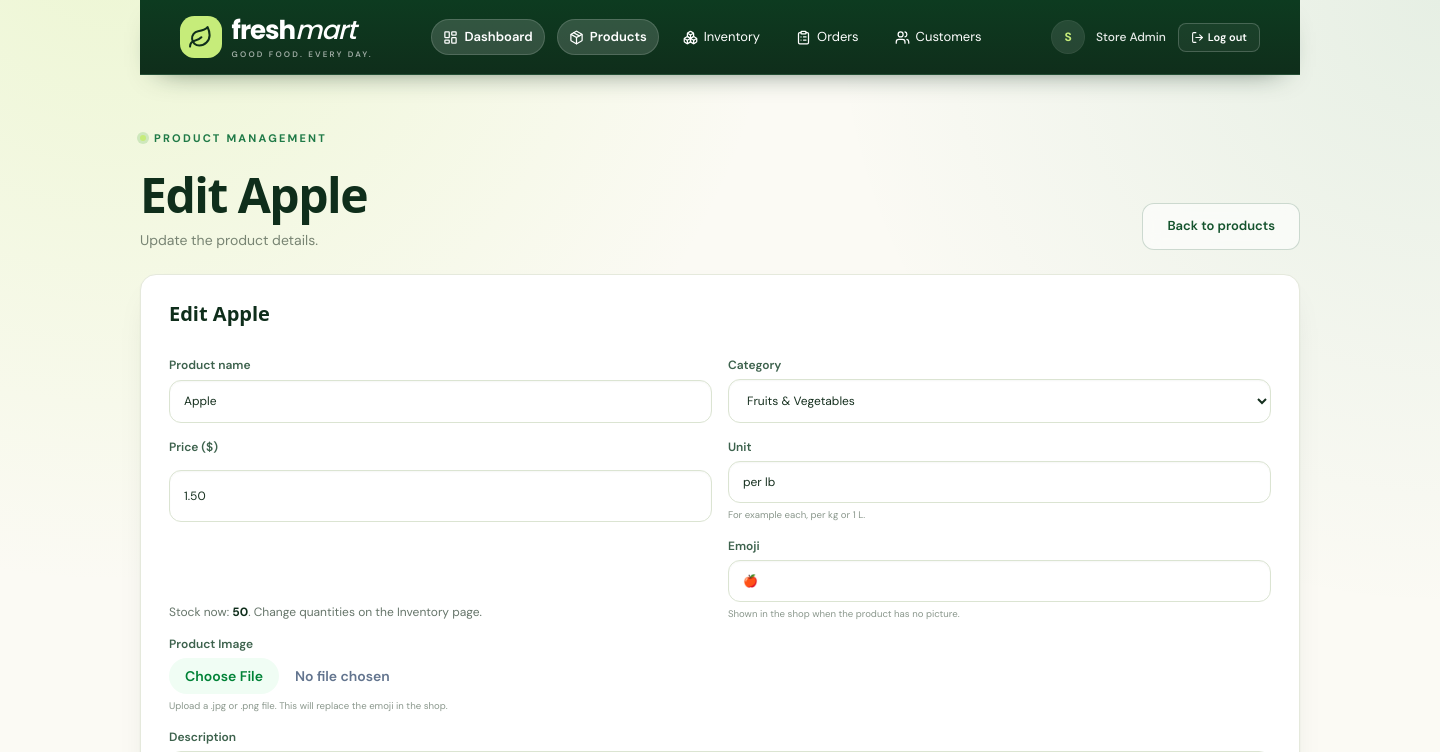
Test case: Sprint 4: admin screens › returns to the product list after saving an edit and clears the saving state
Replace the text in the field labelled "Product name" with "Green Apple": (440, 401) [169,380,712,423]
(page scrolled)
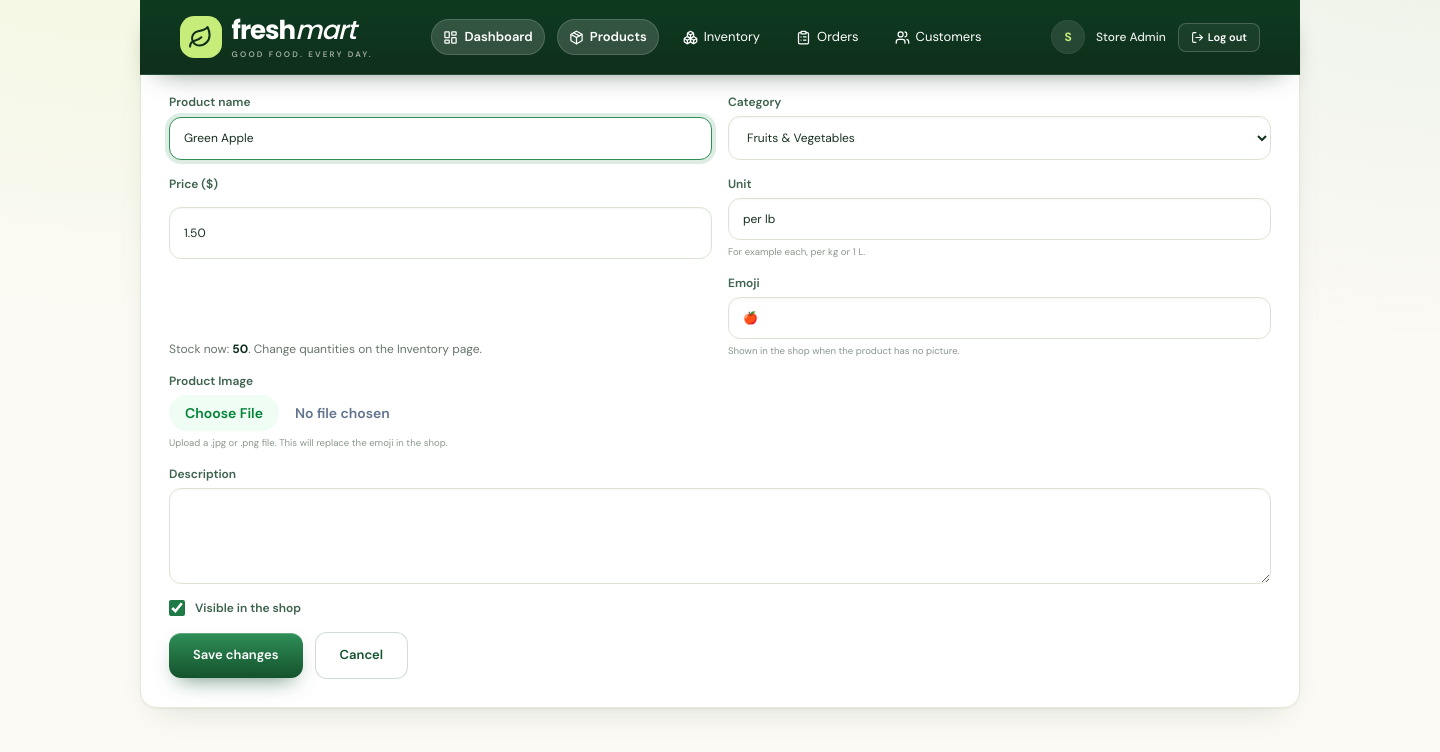
Click the button "Save changes": (236, 656) [169,633,302,678]
(page scrolled)
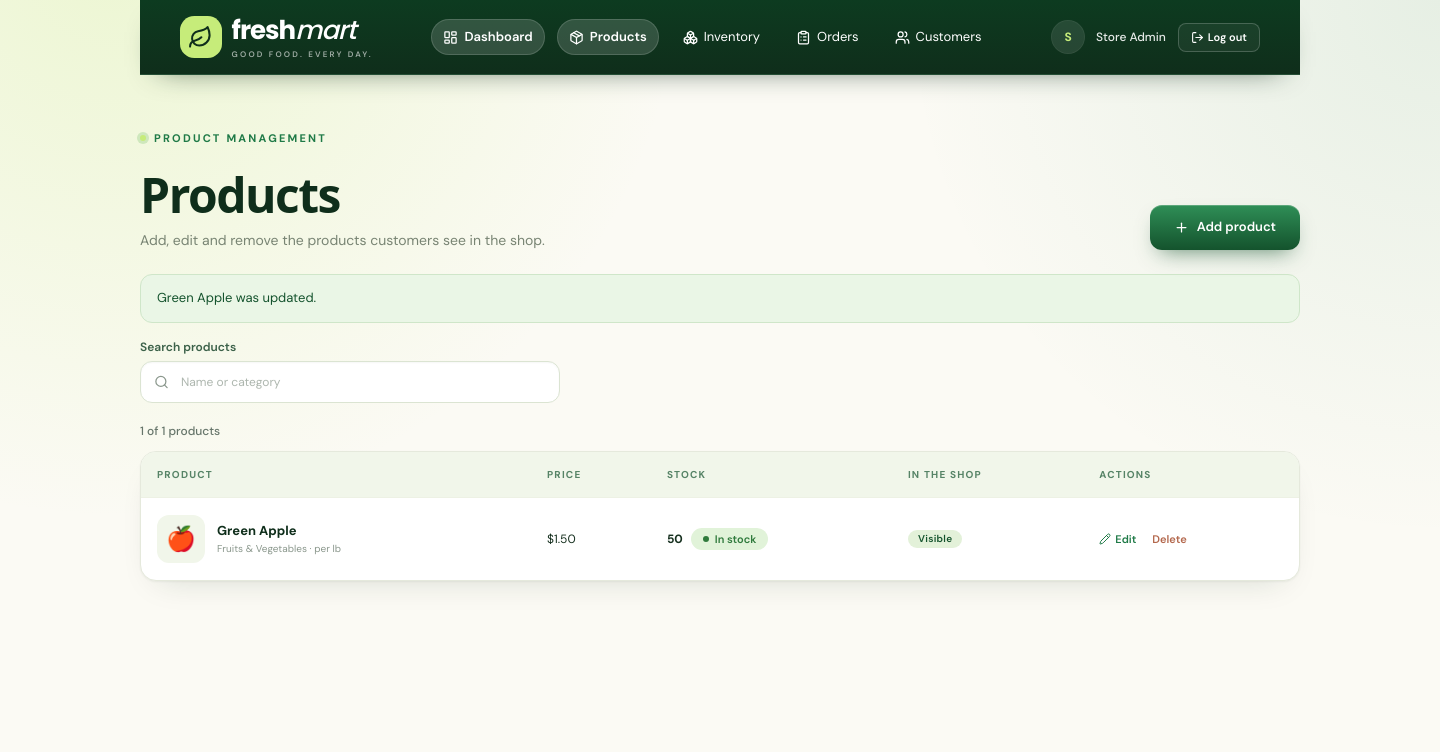
Expected: the text "Green Apple was updated." is shown, [140,274,1300,323]
Expected: the text "Green Apple" is shown, [217,522,297,539]
